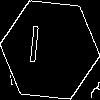I: (25, 25, 43, 72)
